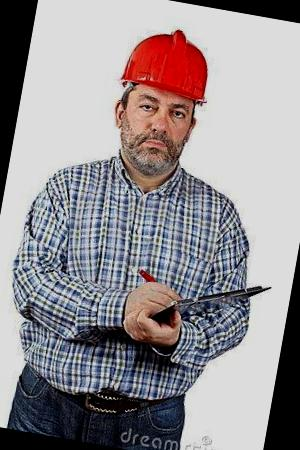helmet: (116, 22, 224, 106)
no_vest: (1, 147, 270, 418)
person: (0, 5, 300, 450)
